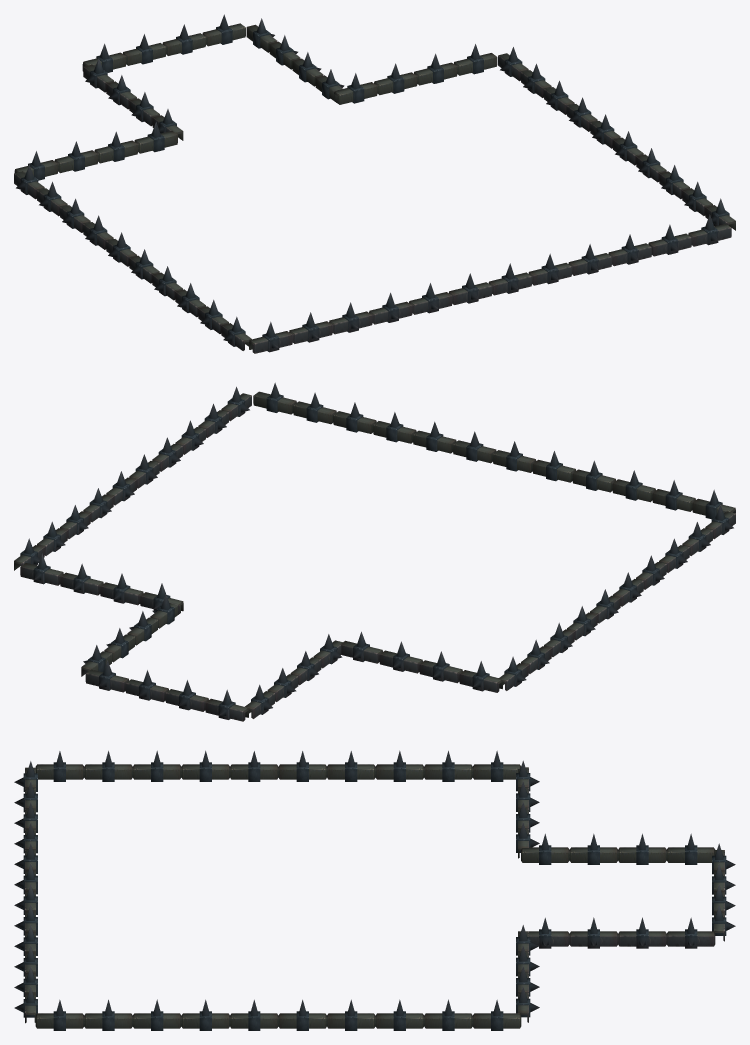
Rendered from chnagjing_sjb_02.FBX.
3 renders of one model, top to bottom at view 1: azimuth 30°, elevation 25°; view 2: azimuth 150°, elevation 25°; view 3: azimuth 270°, elevation 25°, orthographic. The views are drawn at different scales.
Parts seen in each view (by area): view 1: chnagjing_sjb_02; view 2: chnagjing_sjb_02; view 3: chnagjing_sjb_02.
Boxes of the visible parts, x1,y1,x2,y2 form: chnagjing_sjb_02: [14, 14, 735, 353]; chnagjing_sjb_02: [14, 382, 735, 721]; chnagjing_sjb_02: [14, 750, 735, 1030].
Bounding box in the file's own units: 2191 × 2580 × 113.
